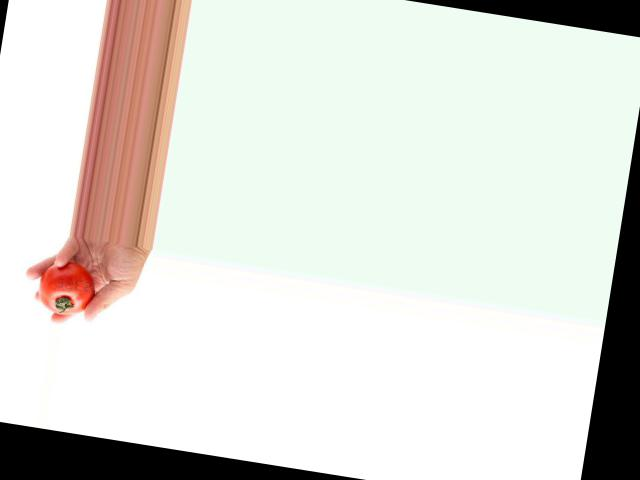tomato: (34, 257, 98, 318)
